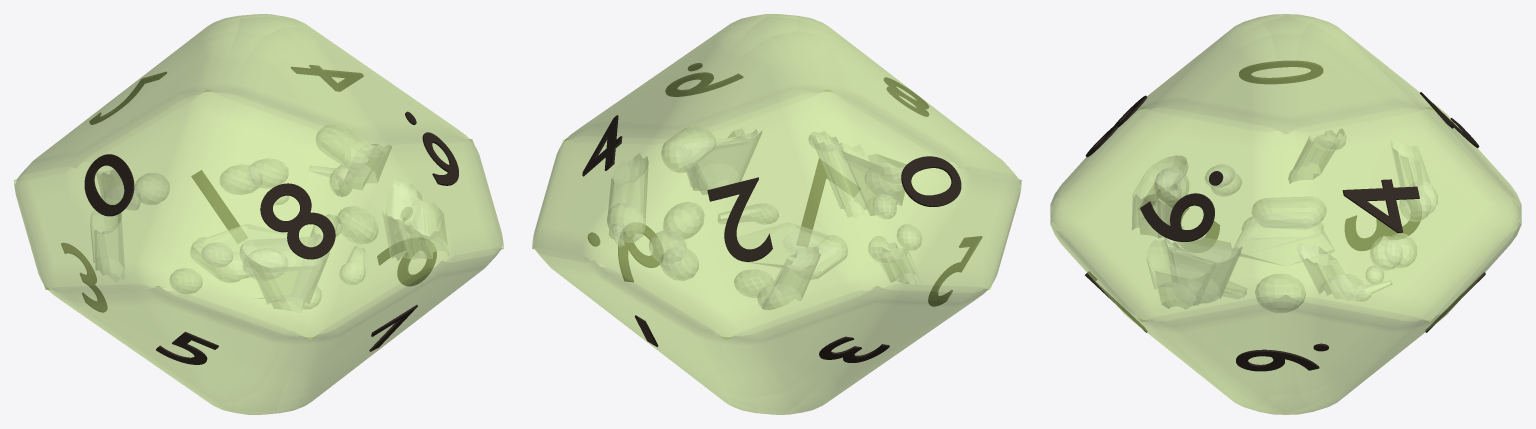
The picture shows the model from 3 angles, left to right: view 1: azimuth 30°, elevation 25°; view 2: azimuth 150°, elevation 25°; view 3: azimuth 270°, elevation 25°; orthographic projection.
Parts seen in each view (by area): view 1: Monster Dungeon d10 canonical sculpture; view 2: Monster Dungeon d10 canonical sculpture; view 3: Monster Dungeon d10 canonical sculpture.
Boxes of the visible parts, x1,y1,x2,y2 form: Monster Dungeon d10 canonical sculpture: (14, 14, 503, 414); Monster Dungeon d10 canonical sculpture: (532, 14, 1021, 414); Monster Dungeon d10 canonical sculpture: (1050, 14, 1521, 414).
Size of the model in its own units: 1.89 by 1.6 by 1.81.
